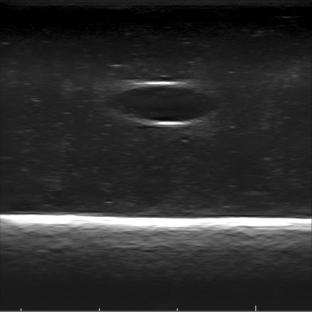vessel: (111, 81, 218, 126)
